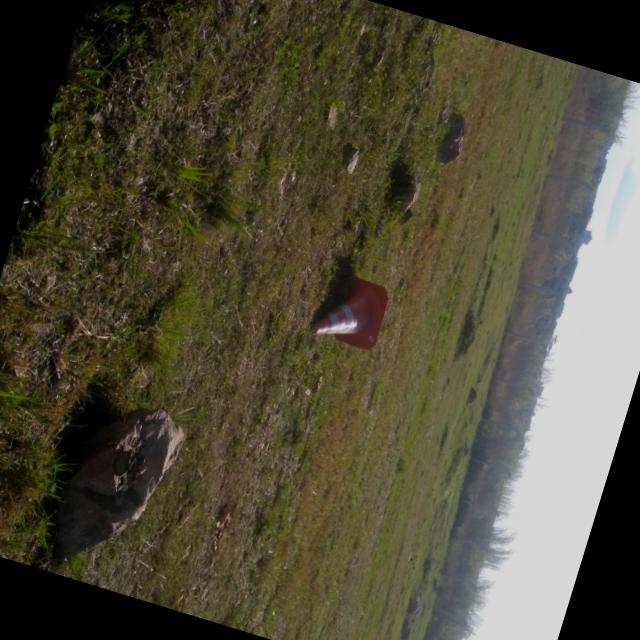cone: (302, 236, 410, 375)
